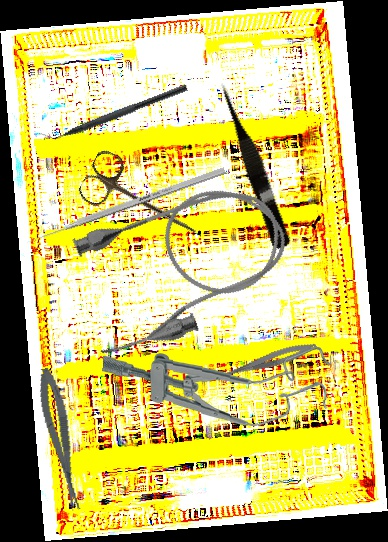Cannula: (58, 164, 306, 368)
Chopper: (37, 74, 189, 149)
Iris Scissors: (75, 147, 210, 254)
Micro Scissor: (214, 77, 296, 252), (33, 365, 86, 514), (206, 338, 319, 389)
Pusher: (24, 166, 227, 246)
Speculum: (100, 339, 332, 429)
